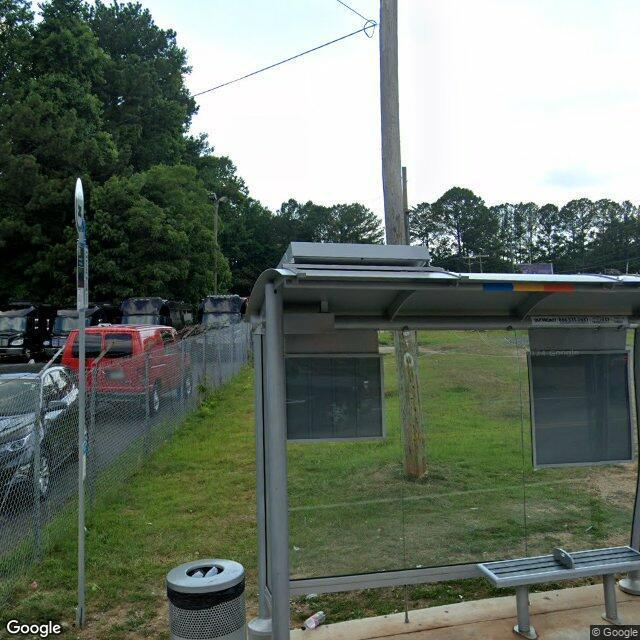seating: (477, 544, 640, 638)
shelter: (237, 264, 639, 640)
trash_can: (164, 558, 248, 640)
